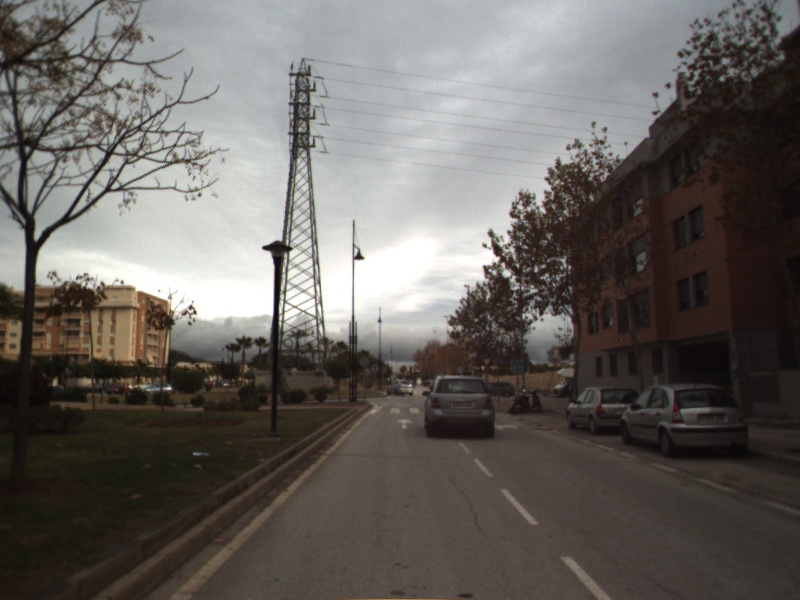STRAIGHT: (394, 416, 415, 431)
